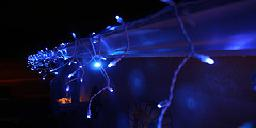LED: (19, 44, 132, 72)
